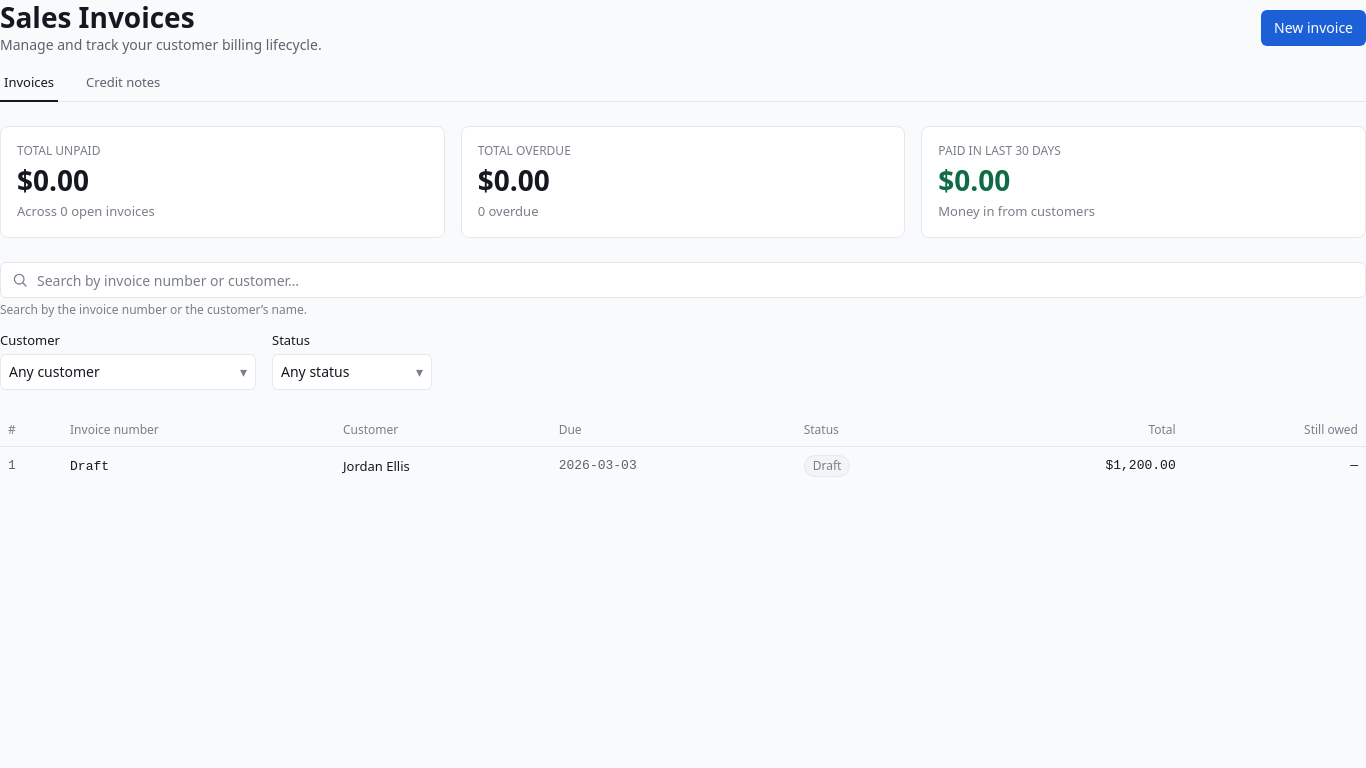
Scenario: SalesScreen › sends one idempotency key across repeated Approve clicks
Click the button "Draft": (90, 467) [70, 457, 109, 477]
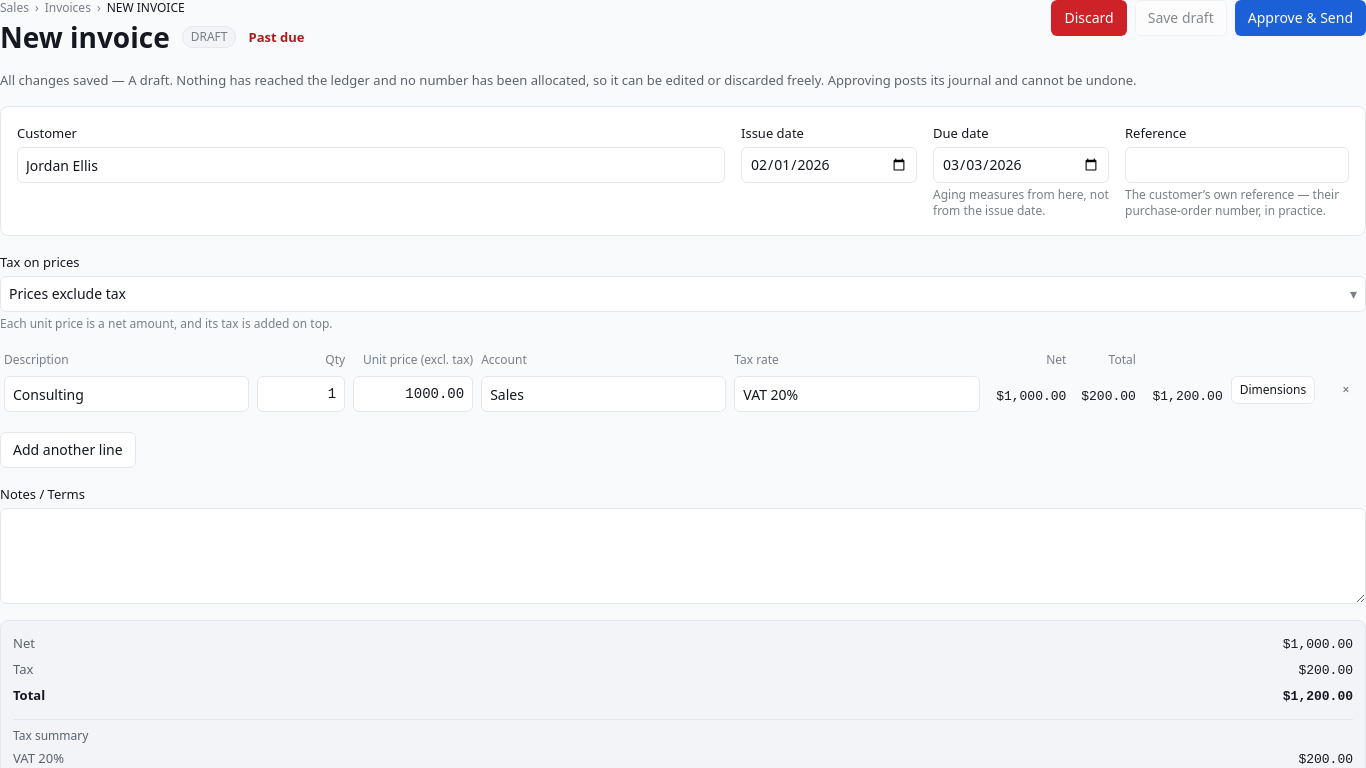
Click the button "Approve & Send": (1300, 18) [1235, 0, 1365, 36]
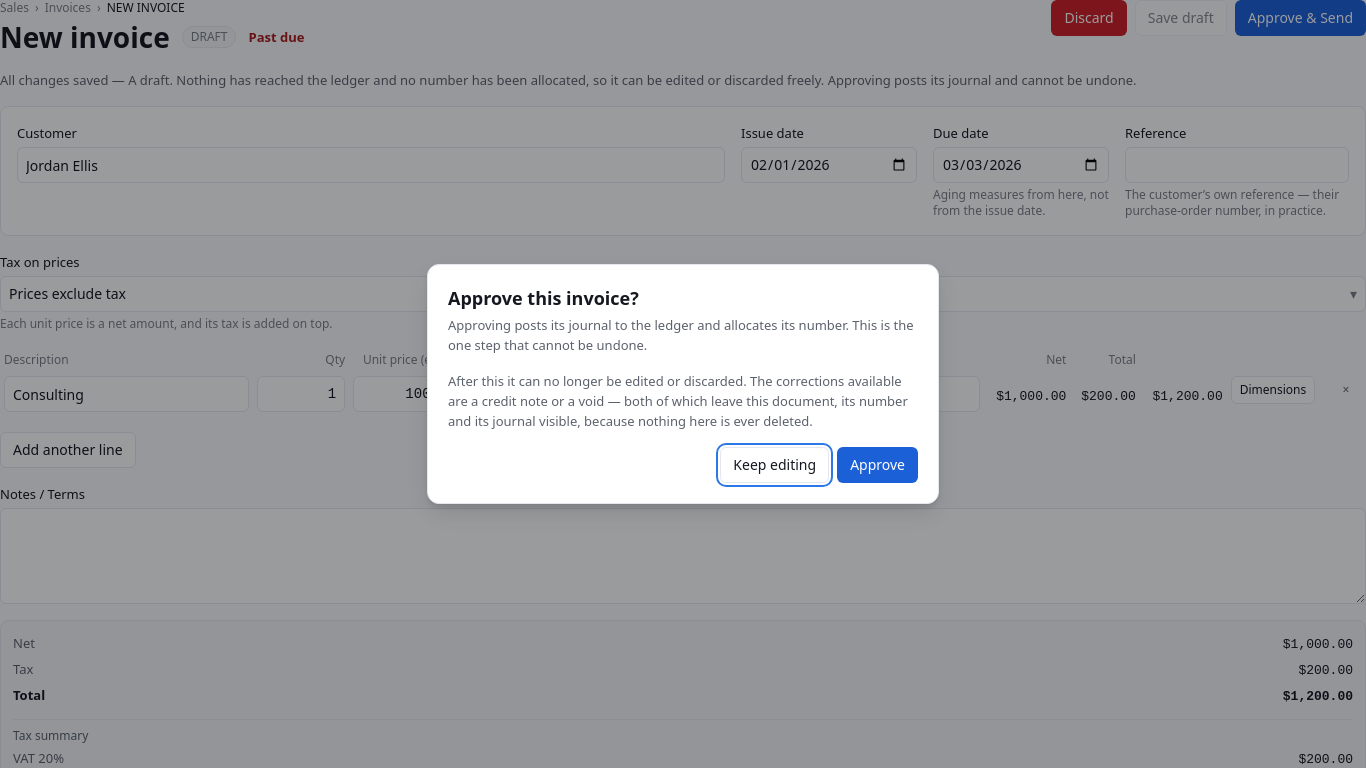
Click the button "Approve": (878, 465) [837, 447, 918, 483]
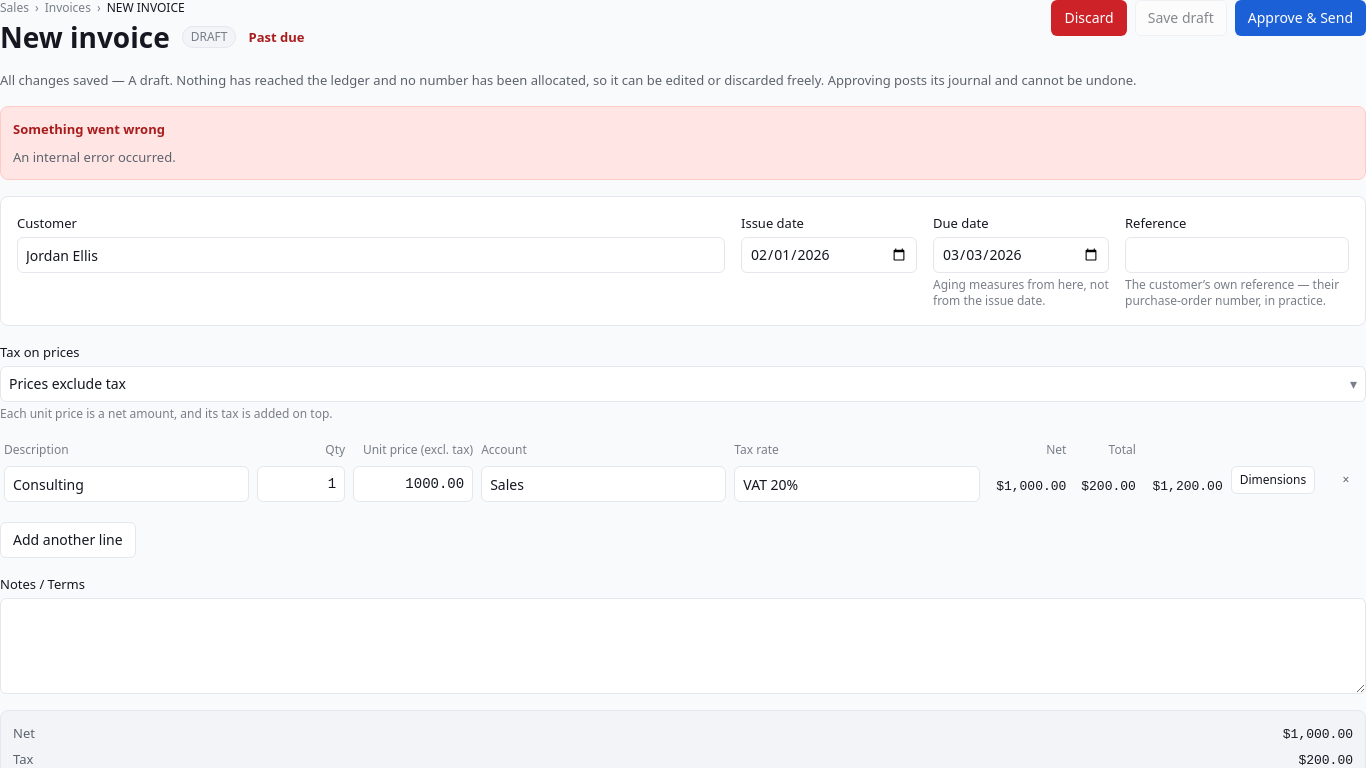
Expected: the message "Something went wrong An internal error occurred." is shown, [0, 106, 1365, 180]
Click the button "Approve & Send": (1300, 18) [1235, 0, 1365, 36]
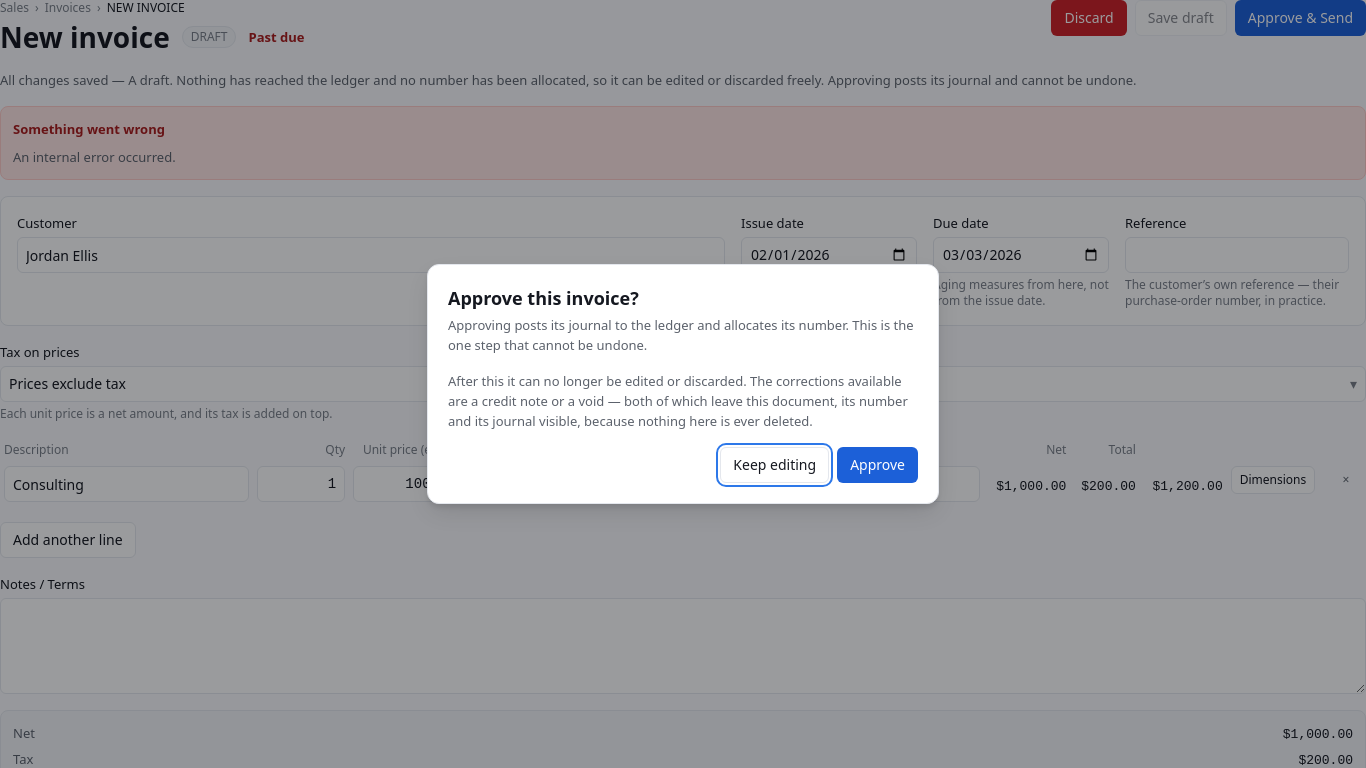
Click the button "Approve": (878, 465) [837, 447, 918, 483]
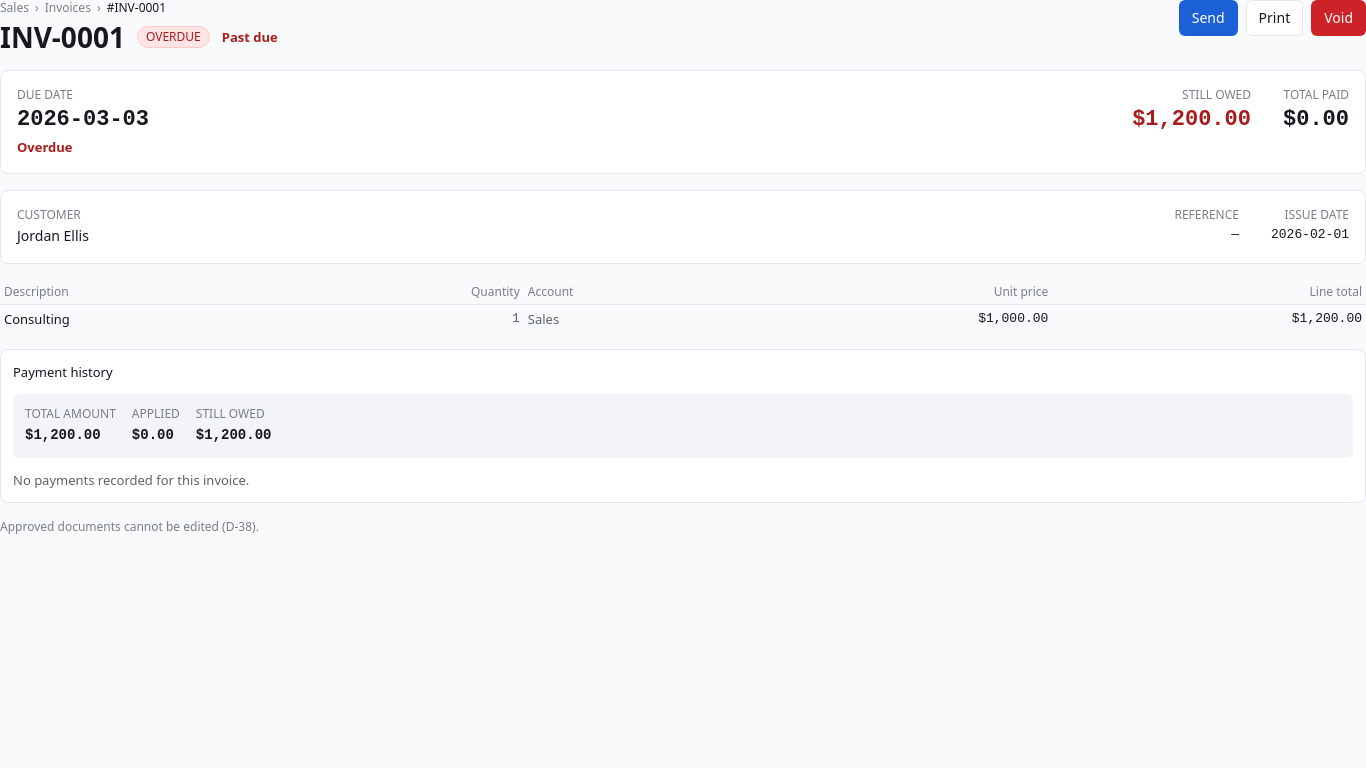
Expected: the heading "INV-0001" is shown, [0, 20, 125, 54]
